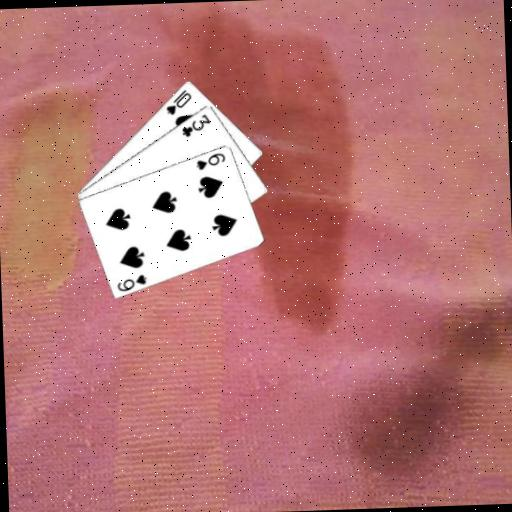10S: (162, 85, 193, 116)
3C: (178, 110, 212, 138)
6S: (114, 271, 149, 293), (193, 149, 227, 171)
